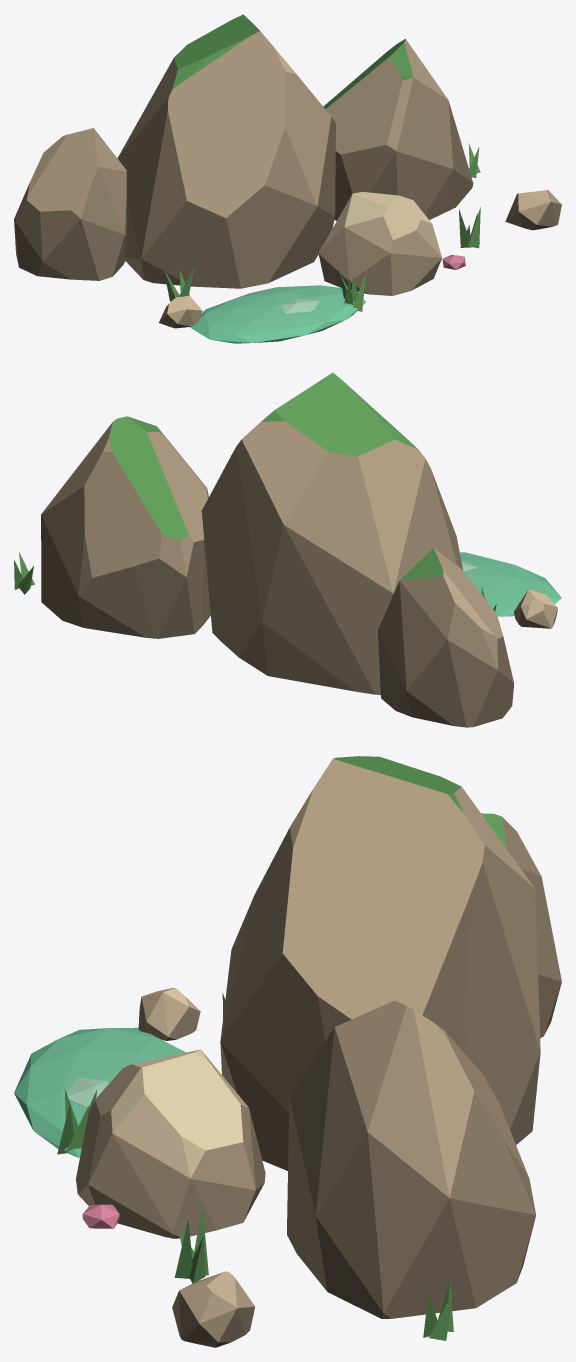
Rendered from ranch_border_rocks.fbx.
The picture shows the model from 3 angles, top to bottom: view 1: azimuth 30°, elevation 25°; view 2: azimuth 150°, elevation 25°; view 3: azimuth 270°, elevation 25°; orthographic projection. The views are drawn at different scales.
Parts seen in each view (by area): view 1: ranch_border_rocks; view 2: ranch_border_rocks; view 3: ranch_border_rocks.
Boxes of the visible parts, x1=… form: ranch_border_rocks: x1=14, y1=14, x2=561, y2=343; ranch_border_rocks: x1=14, y1=372, x2=561, y2=727; ranch_border_rocks: x1=14, y1=756, x2=561, y2=1347.
Size of the model in its own units: 12.73 by 6.13 by 7.81.
